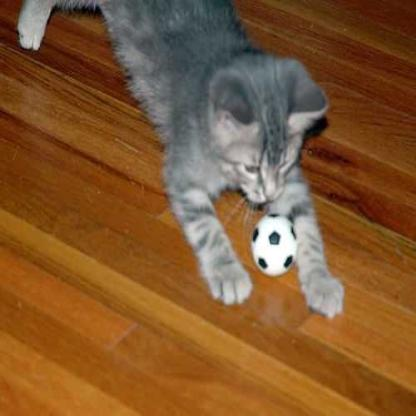ball: (250, 214, 298, 276)
